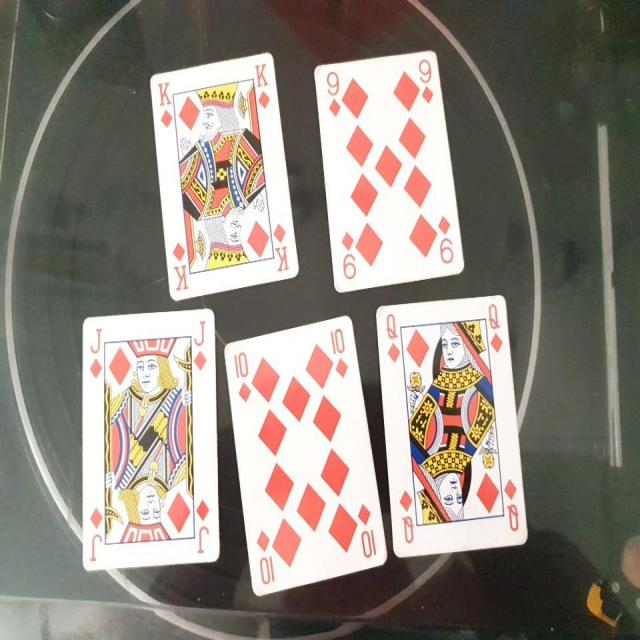10 Diamonds: (224, 314, 388, 596)
9 Diamonds: (312, 48, 466, 293)
J Diamonds: (80, 303, 225, 570)
K Diamonds: (147, 52, 300, 302)
Q Diamonds: (374, 291, 530, 558)
